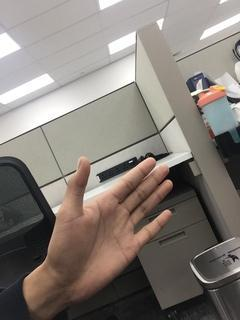hand: (45, 155, 172, 294)
